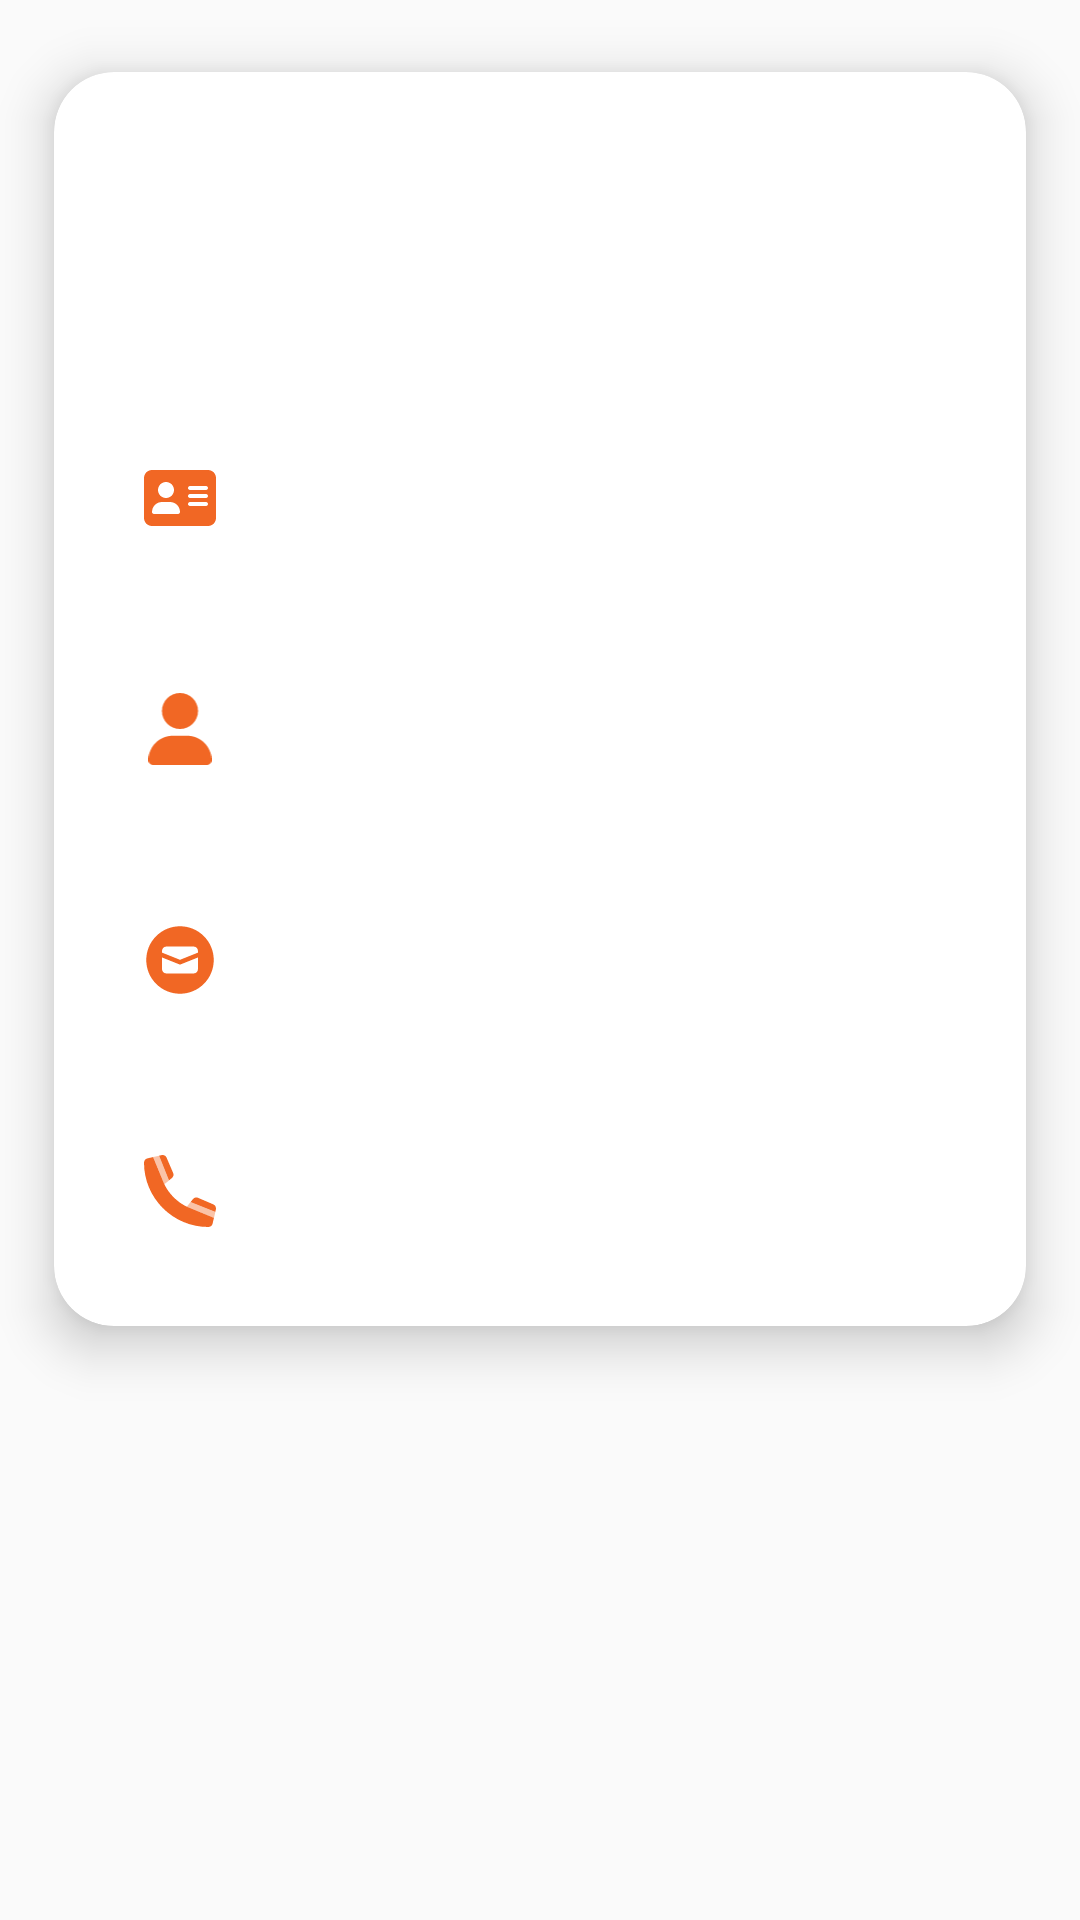

Where to tap for icons on this 1080 x 1920 app screen, as (x=x, y=y):
email: (x=180, y=960)
phone: (x=180, y=1191)
user: (x=180, y=729)
